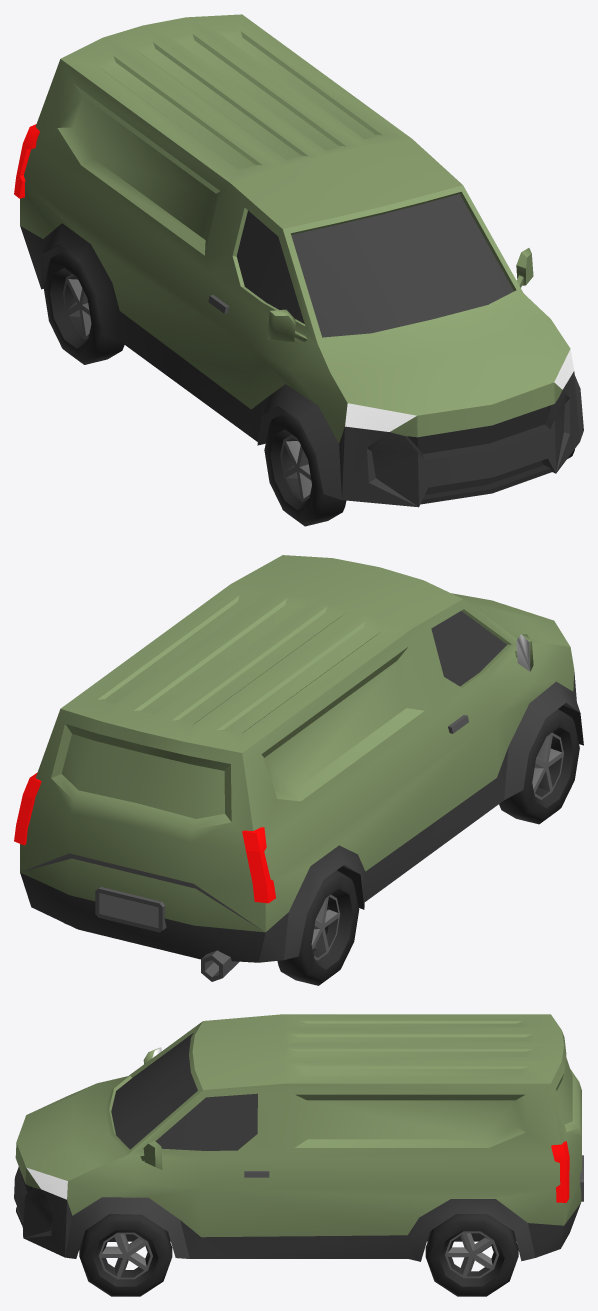
Rendered from van.glb.
3 renders of one model, top to bottom at view 1: azimuth 30°, elevation 25°; view 2: azimuth 150°, elevation 25°; view 3: azimuth 270°, elevation 25°, orthographic. The views are drawn at different scales.
Visible parts, largest first — view 1: van, wheel1.001, wheel1.002; view 2: van, wheel1.002, wheel1.001; view 3: van, wheel1.005, wheel1.006.
Part boxes in pixels (box(x1,y1,x2,y2)): van: box(14, 14, 583, 507); wheel1.001: box(264, 411, 346, 526); wheel1.002: box(44, 249, 124, 364); van: box(14, 555, 583, 981); wheel1.002: box(277, 870, 359, 985); wheel1.001: box(499, 709, 579, 824); van: box(14, 1014, 583, 1261); wheel1.005: box(79, 1214, 172, 1296); wheel1.006: box(425, 1214, 518, 1296).
Size of the model in its own units: 2.12 by 1.96 by 4.98.
Materials: 4 (4 with a texture image).
